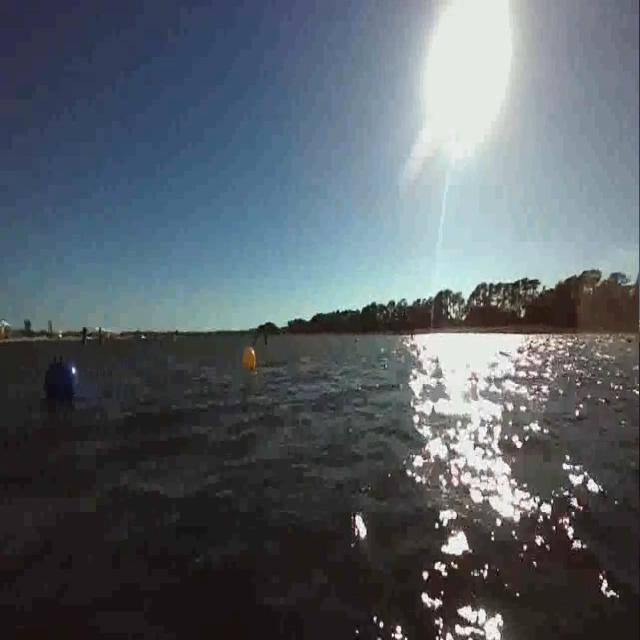blue-buoy: (43, 354, 80, 406)
yellow-buoy: (242, 344, 257, 370)
